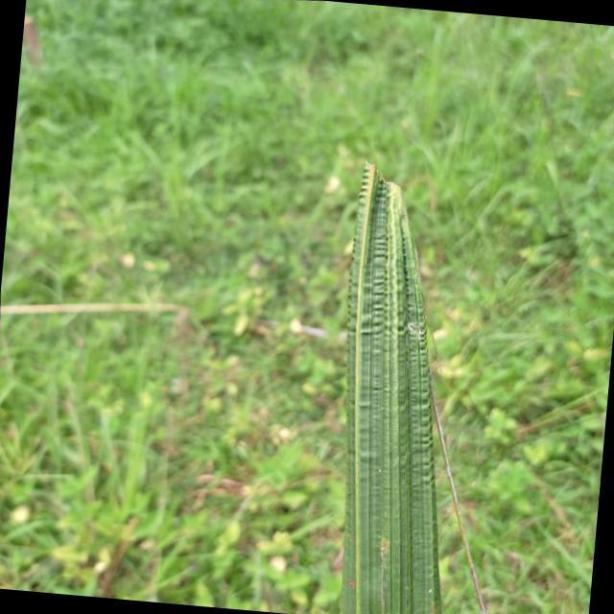Boron: (336, 140, 443, 614)
